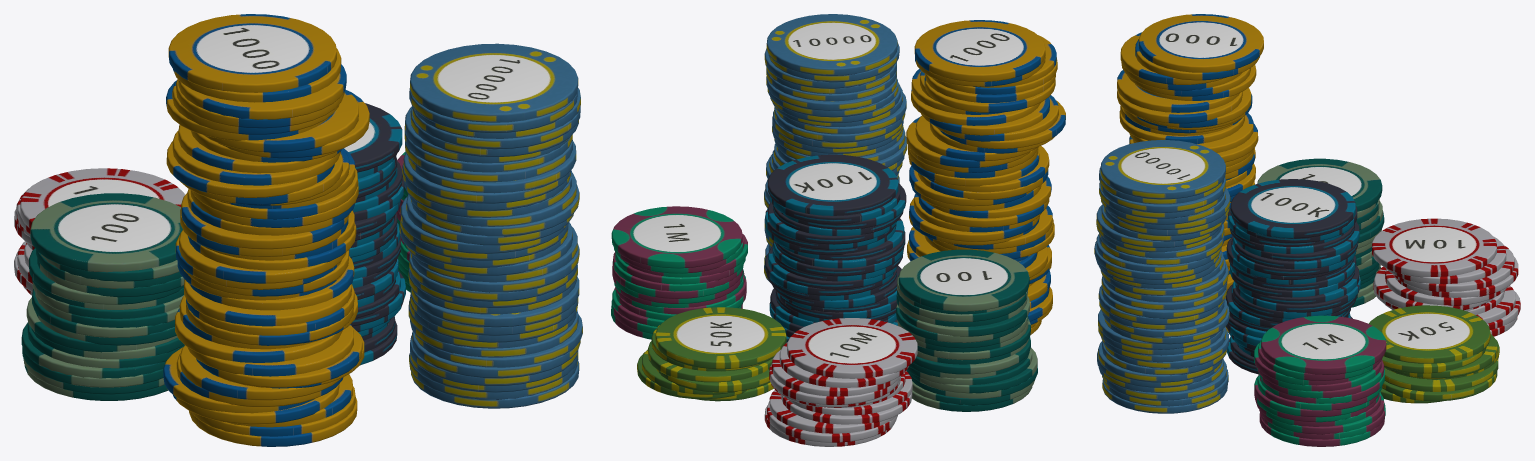
File: chips-transformed.glb
3 views of the same model, side by side, from view 1: azimuth 30°, elevation 25°; view 2: azimuth 150°, elevation 25°; view 3: azimuth 270°, elevation 25° (orthographic). The views are drawn at different scales.
Visible parts, largest first — view 1: Object_5, Object_4, Object_7, Object_6, Object_8, Object_10; view 2: Object_5, Object_6, Object_7, Object_4, Object_8, Object_10, Object_9; view 3: Object_4, Object_6, Object_5, Object_10, Object_8, Object_9, Object_7.
Boxes of the visible parts, left/top/right/bottom form: Object_5: left=163, top=14, right=369, bottom=446; Object_4: left=399, top=43, right=582, bottom=408; Object_7: left=21, top=193, right=184, bottom=400; Object_6: left=344, top=103, right=405, bottom=365; Object_8: left=14, top=168, right=184, bottom=295; Object_10: left=396, top=152, right=410, bottom=292; Object_5: left=906, top=20, right=1065, bottom=334; Object_6: left=765, top=154, right=906, bottom=342; Object_7: left=896, top=249, right=1037, bottom=411; Object_4: left=764, top=14, right=906, bottom=283; Object_8: left=764, top=318, right=917, bottom=446; Object_10: left=611, top=206, right=747, bottom=339; Object_9: left=637, top=307, right=786, bottom=401; Object_4: left=1094, top=140, right=1230, bottom=413; Object_6: left=1226, top=179, right=1360, bottom=374; Object_5: left=1117, top=14, right=1263, bottom=332; Object_10: left=1254, top=315, right=1386, bottom=446; Object_8: left=1372, top=218, right=1520, bottom=336; Object_9: left=1369, top=305, right=1499, bottom=403; Object_7: left=1257, top=158, right=1384, bottom=307.
Bounding box in the file's own units: 0.1721 × 0.1131 × 0.1629.
Materials: 7 (7 with a texture image).
